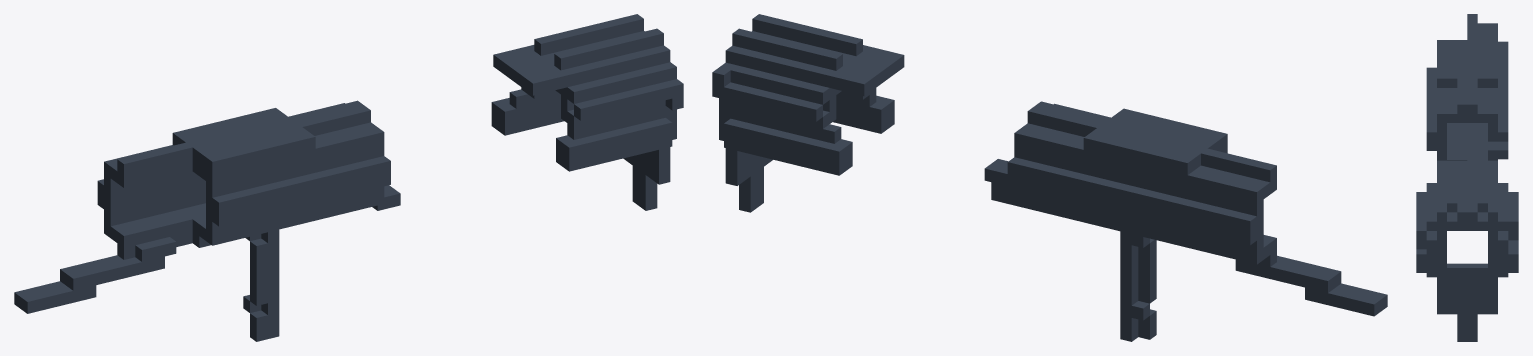
The model's file is receiver_sporter.glb.
3 views of the same model, side by side, from view 1: azimuth 30°, elevation 25°; view 2: azimuth 150°, elevation 25°; view 3: azimuth 270°, elevation 25° (orthographic). The views are drawn at different scales.
Visible parts, largest first — view 1: receiver_sporter:receiver; view 2: receiver_sporter:receiver; view 3: receiver_sporter:receiver.
Part boxes in pixels (box(x1,y1,x2,y2)): receiver_sporter:receiver: box(14, 14, 683, 341); receiver_sporter:receiver: box(712, 14, 1387, 341); receiver_sporter:receiver: box(1416, 14, 1518, 341).
Size of the model in its own units: 0.22 by 0.072 by 0.04.
